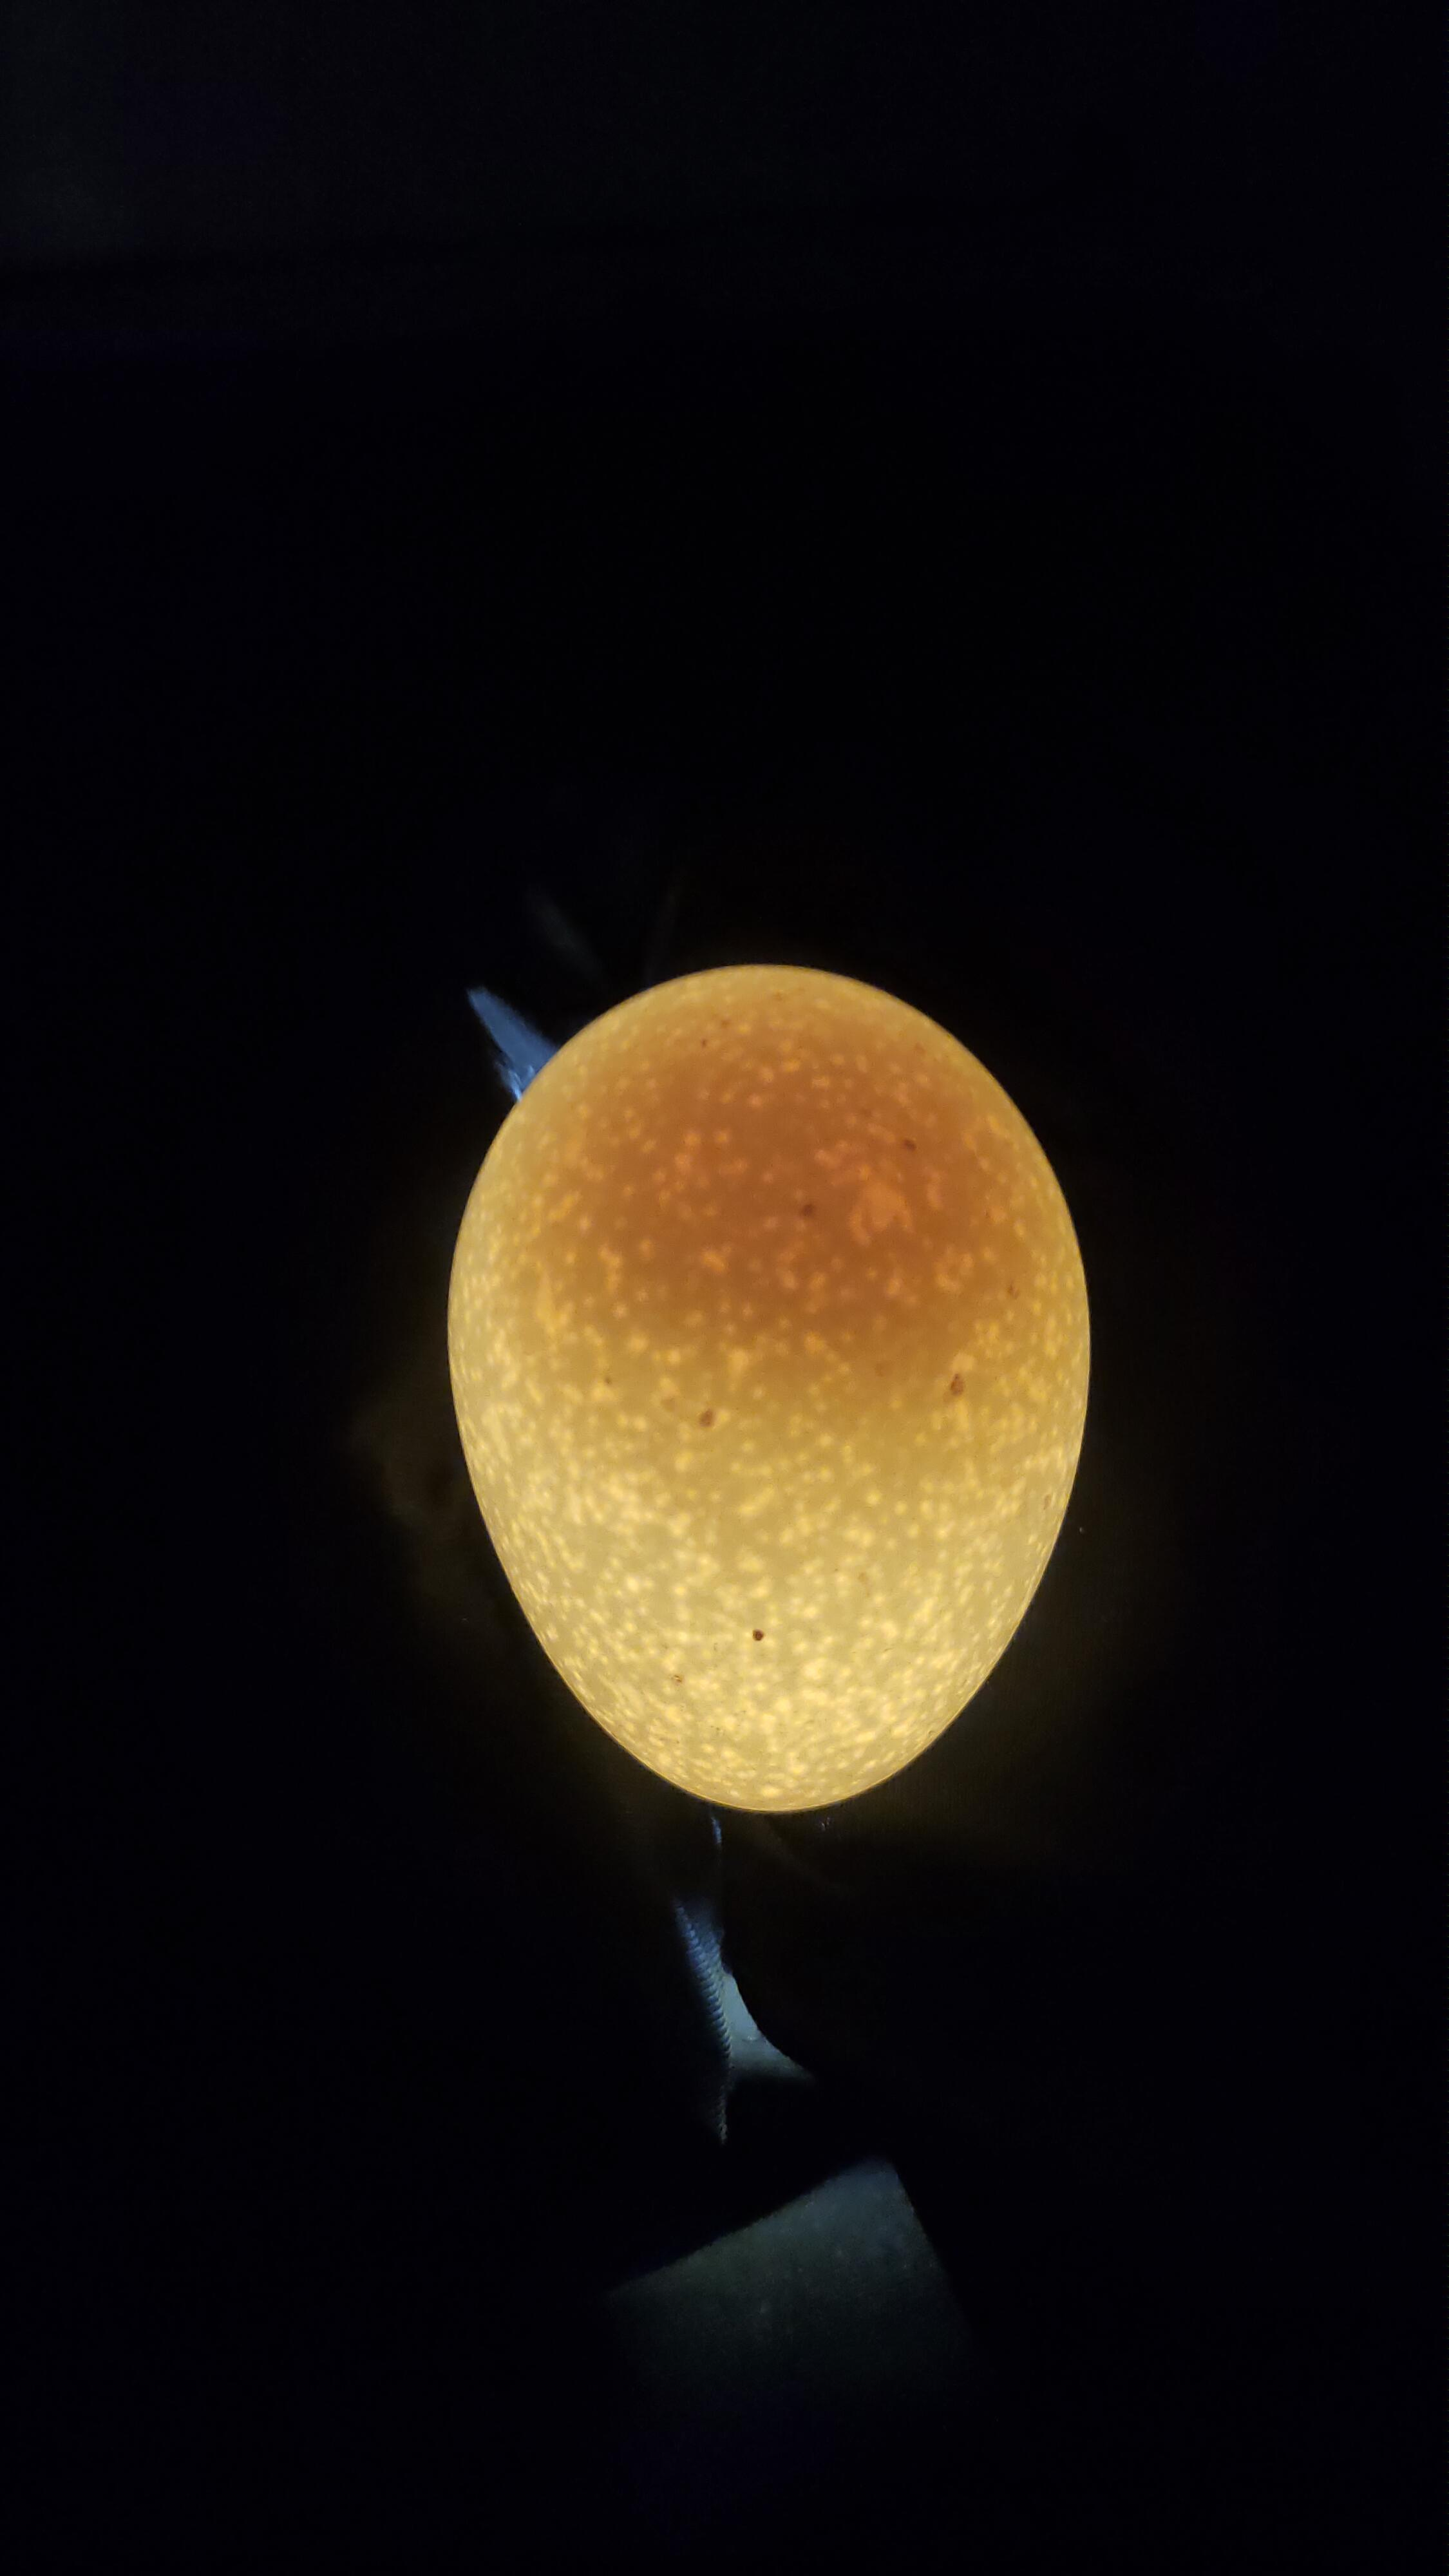Inedible: (431, 934, 1140, 1868)
